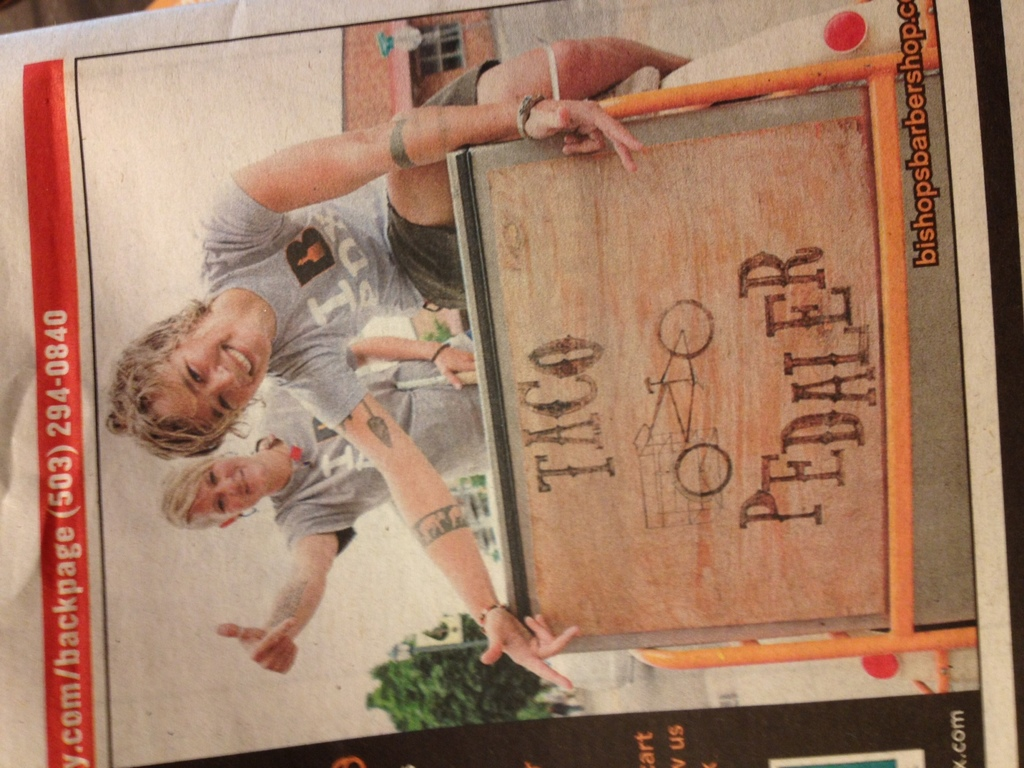Person: (158, 329, 469, 675)
